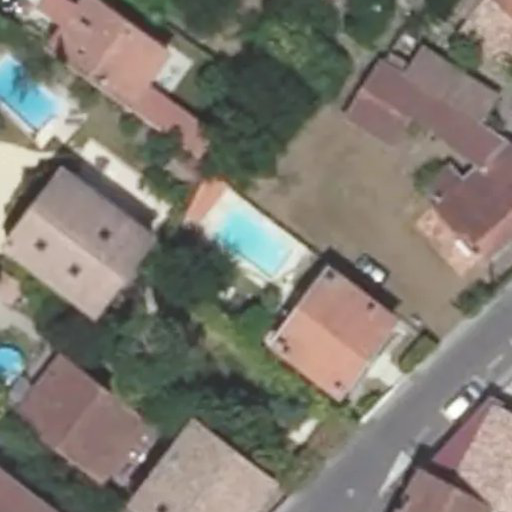pool: (218, 236, 292, 247)
